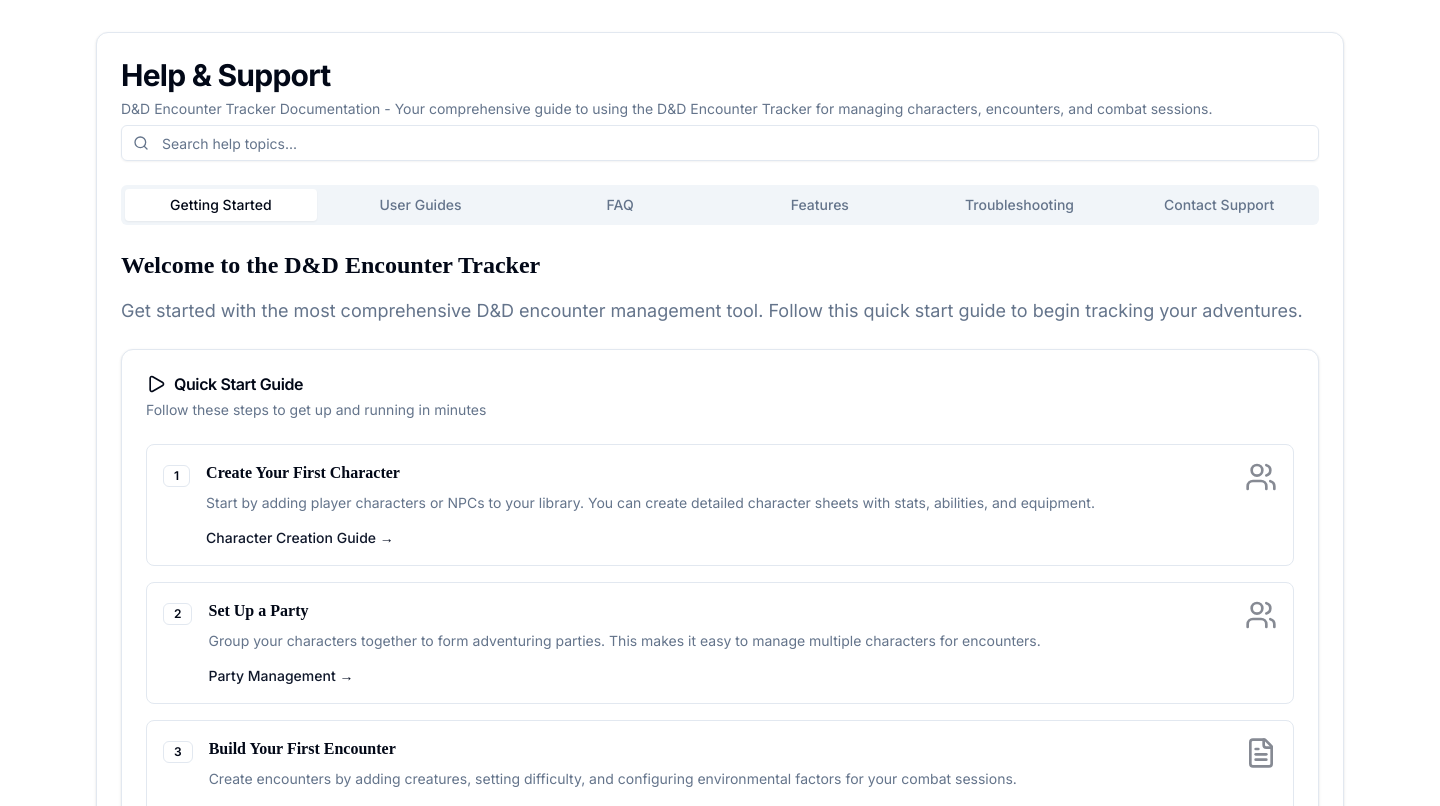
Test: HelpPage Component › Navigation Tabs › displays correct content for each tab
The image size is (1440, 806).
Expected: the heading "Welcome to the D&D Encounter Tracker" is shown, [121,252,540,278]
Step 1. Click the tab "FAQ" → (620, 205), box [524,189,716,221]
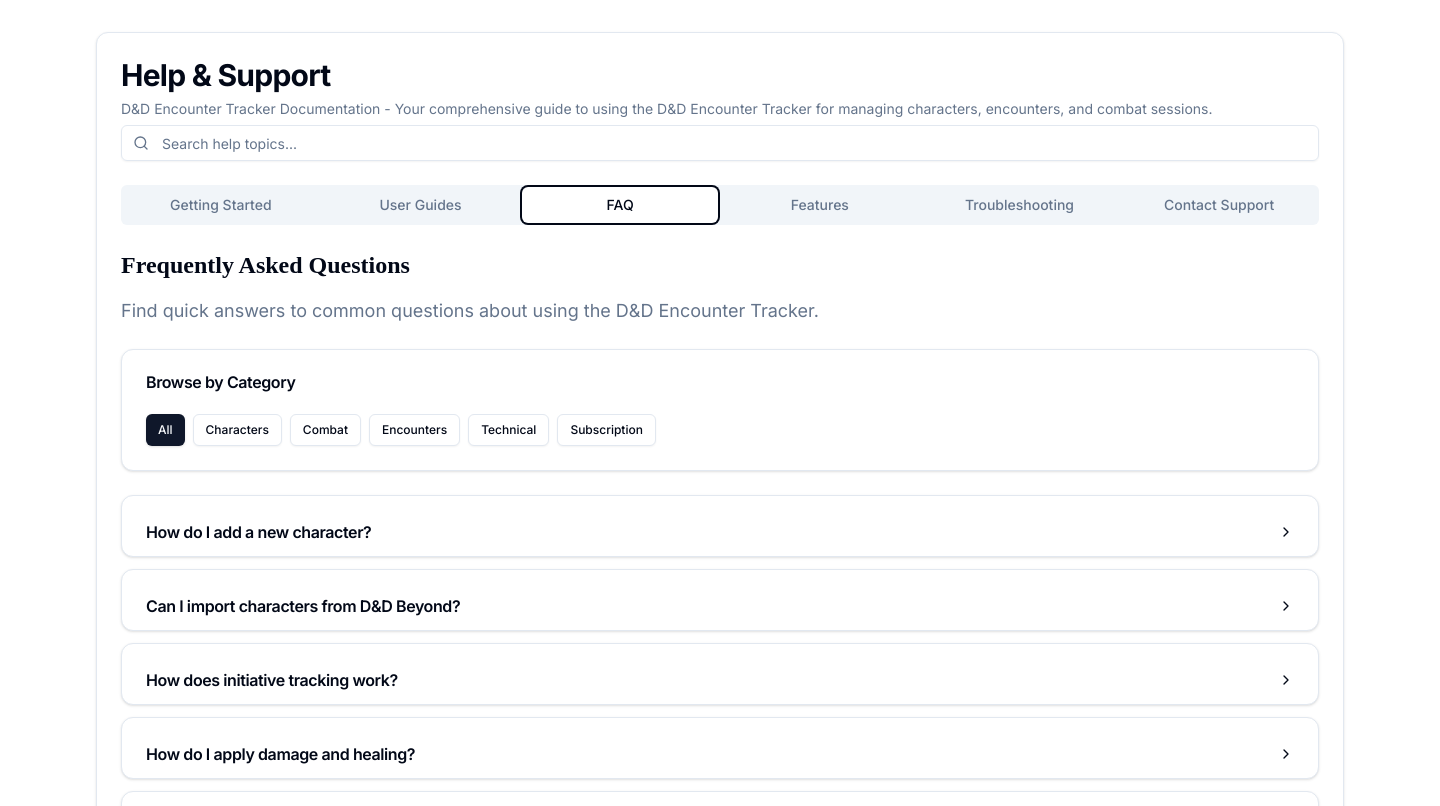
Now the heading "Frequently Asked Questions" is shown, box [121,252,410,278]
Step 2. Click the tab "Features" → (820, 205), box [724,189,916,221]
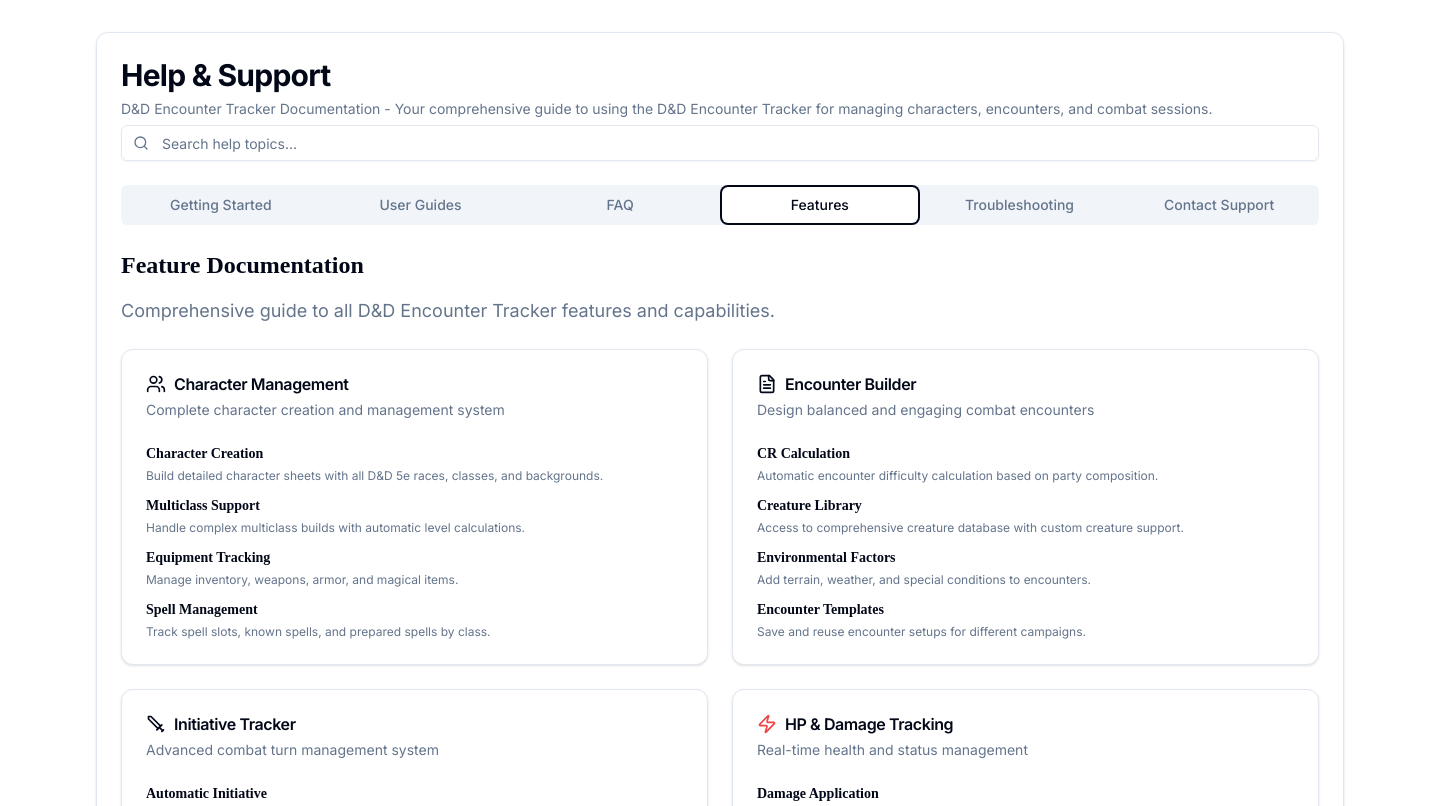
Now the heading "Feature Documentation" is shown, box [121,252,364,278]
